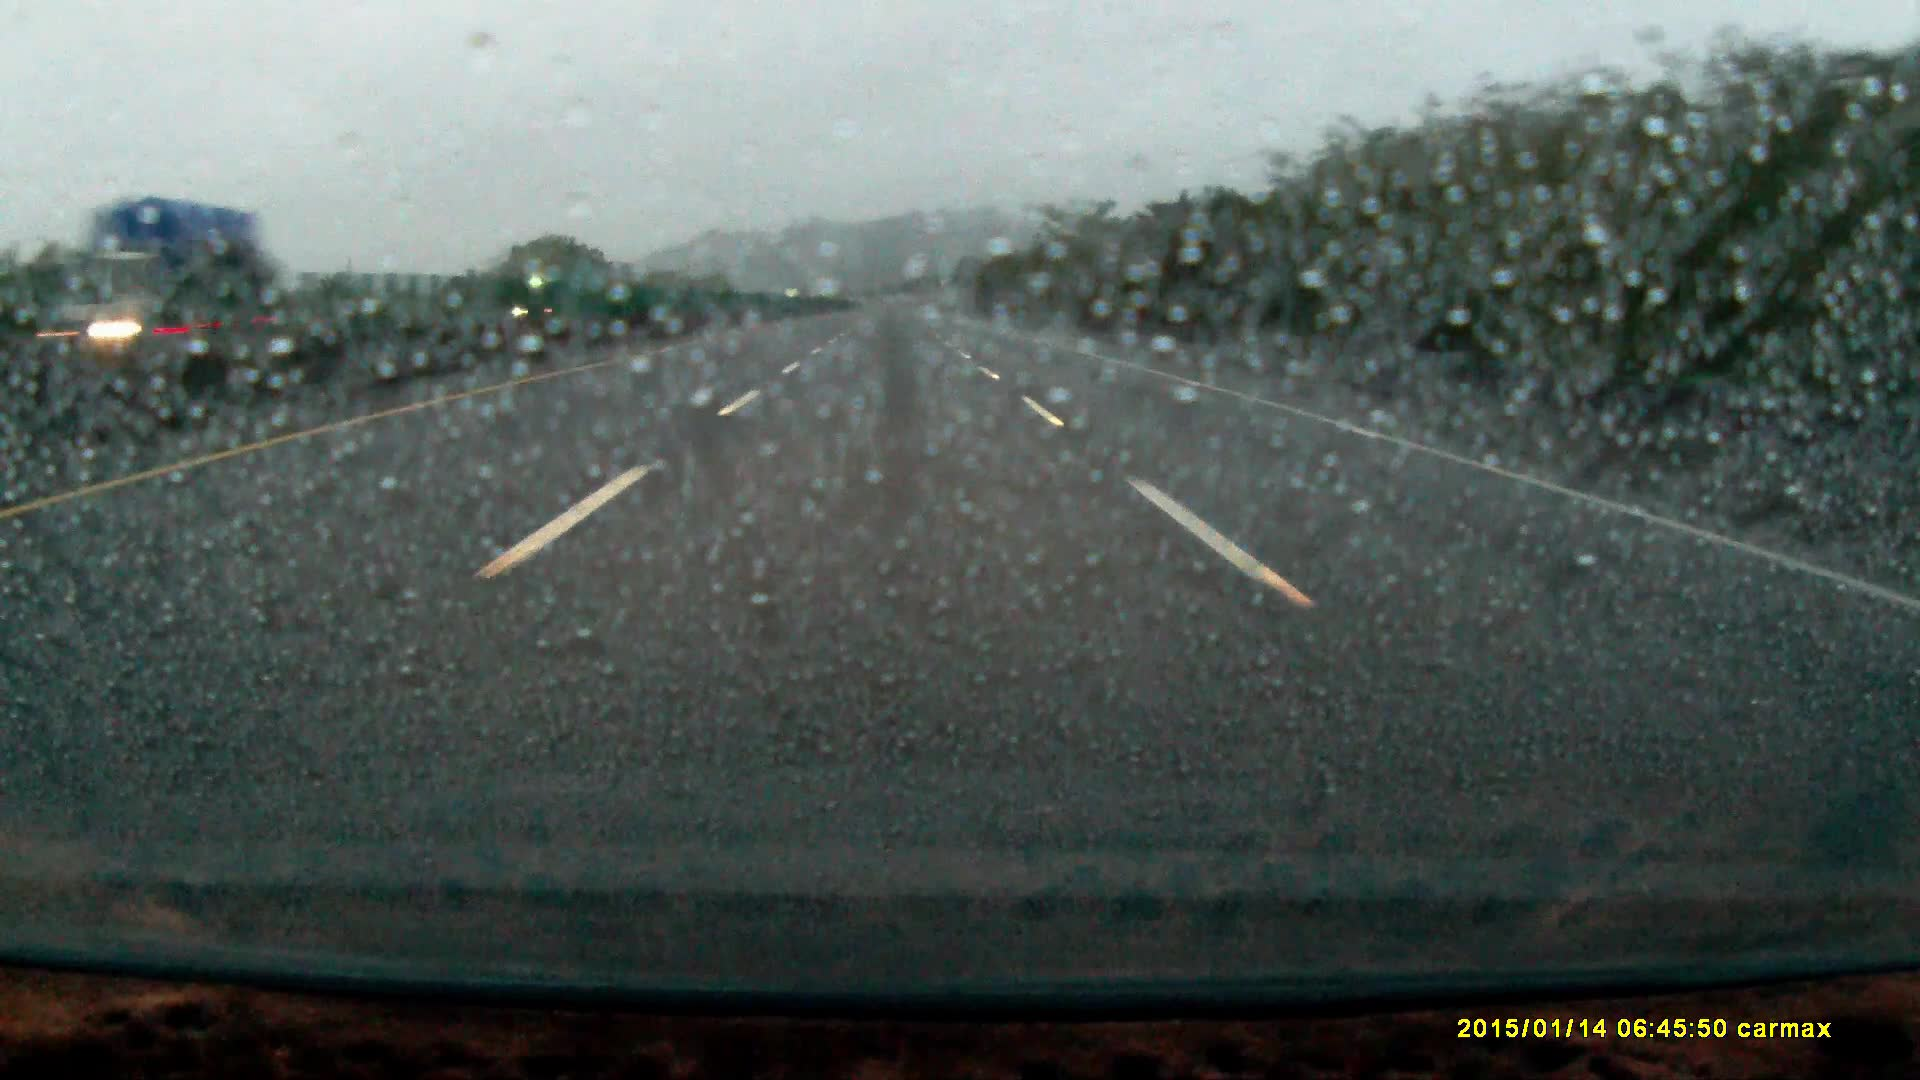vehicle: (36, 198, 262, 369), (512, 262, 609, 331)
